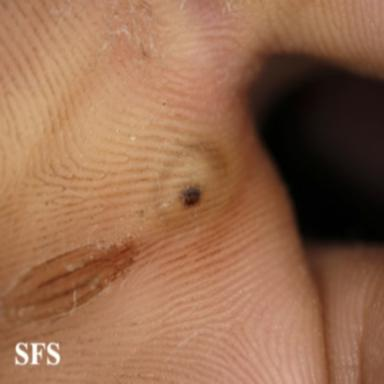Tungiasis: (161, 143, 225, 223)
